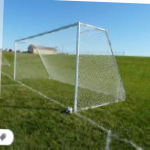goals: (12, 22, 126, 111)
